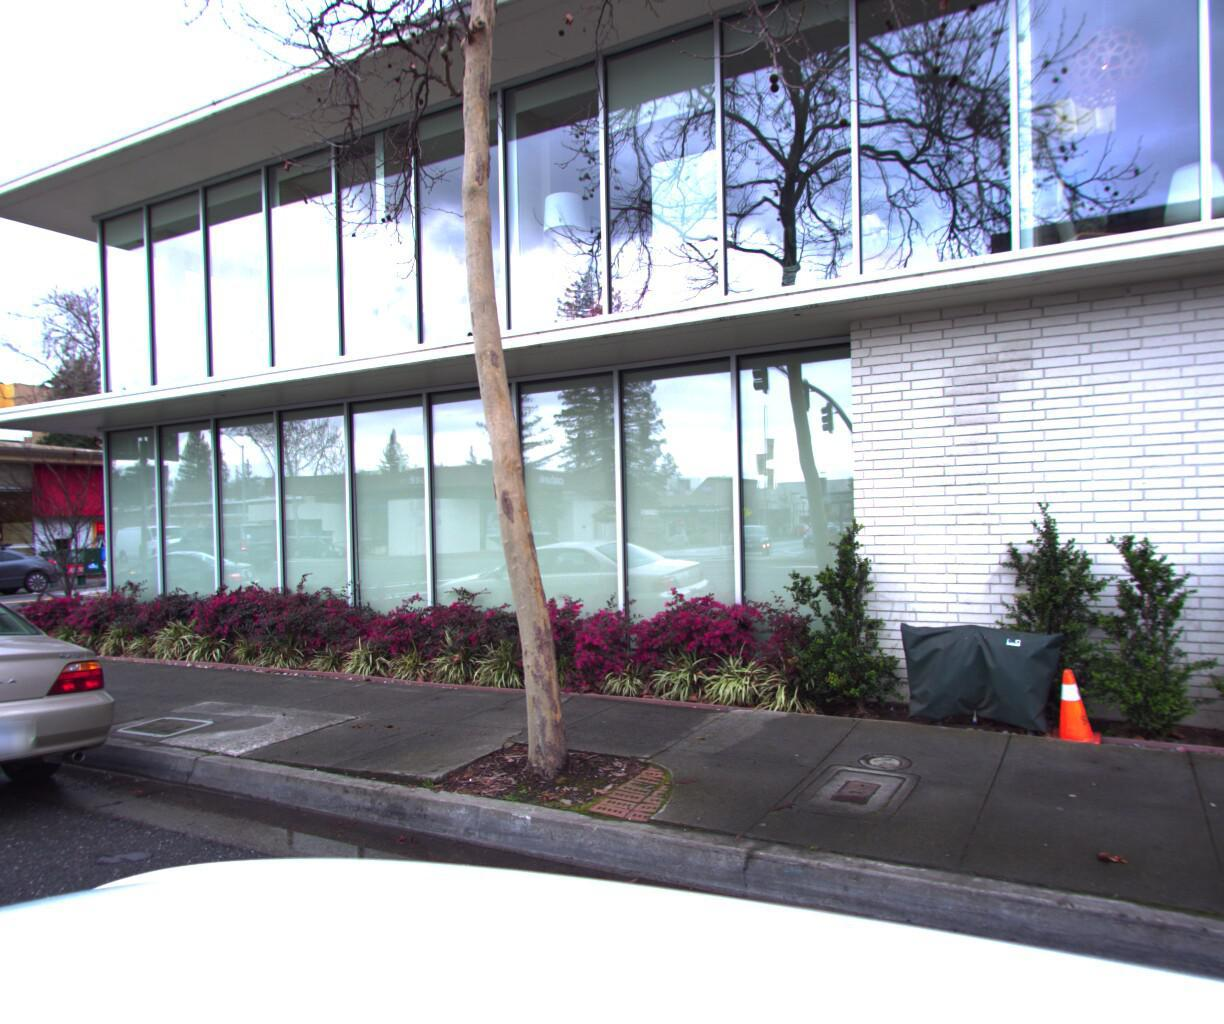car: (0, 553, 139, 883), (0, 540, 70, 611)
